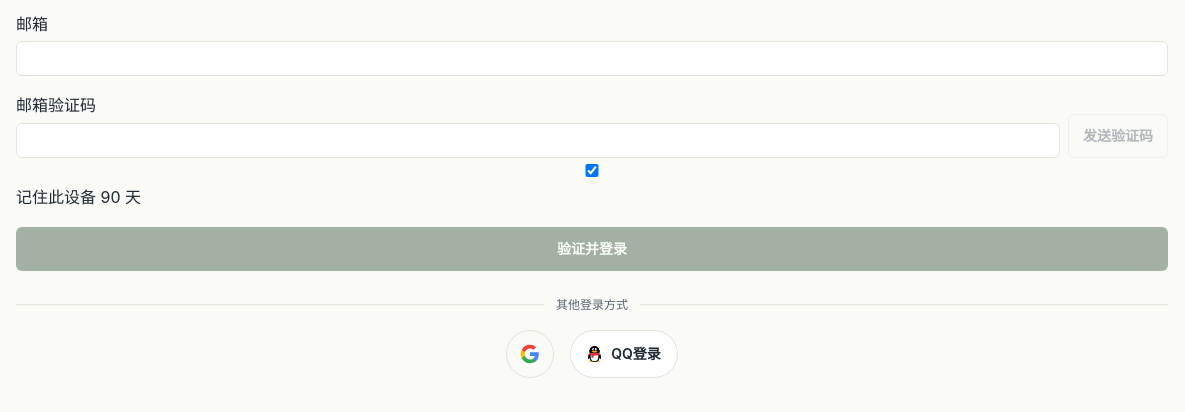
Test: does not start QQ authorization when popup opening is blocked
The width and height of the screenshot is (1185, 412).
Click the button "QQ登录" at (624, 354), box [570,330,678,378]
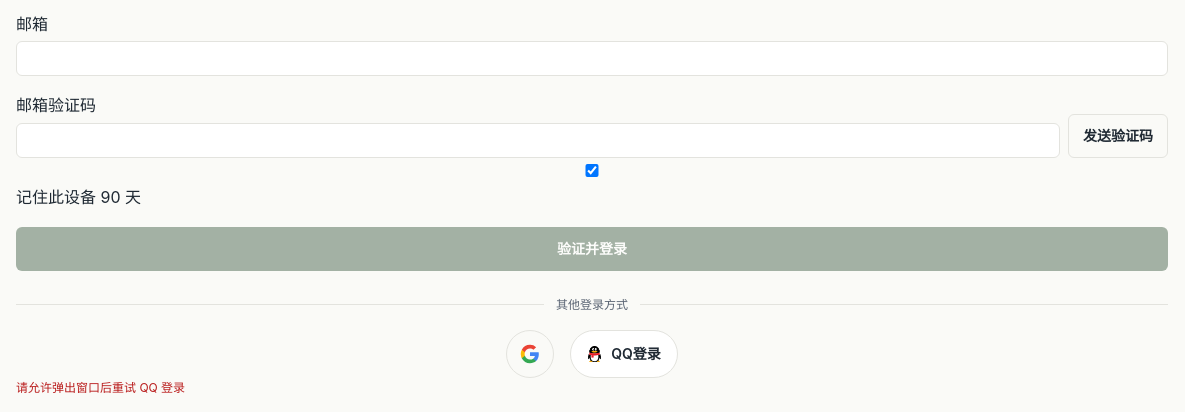
Expected: the message reads "请允许弹出窗口后重试 QQ 登录", [16,380,185,395]
